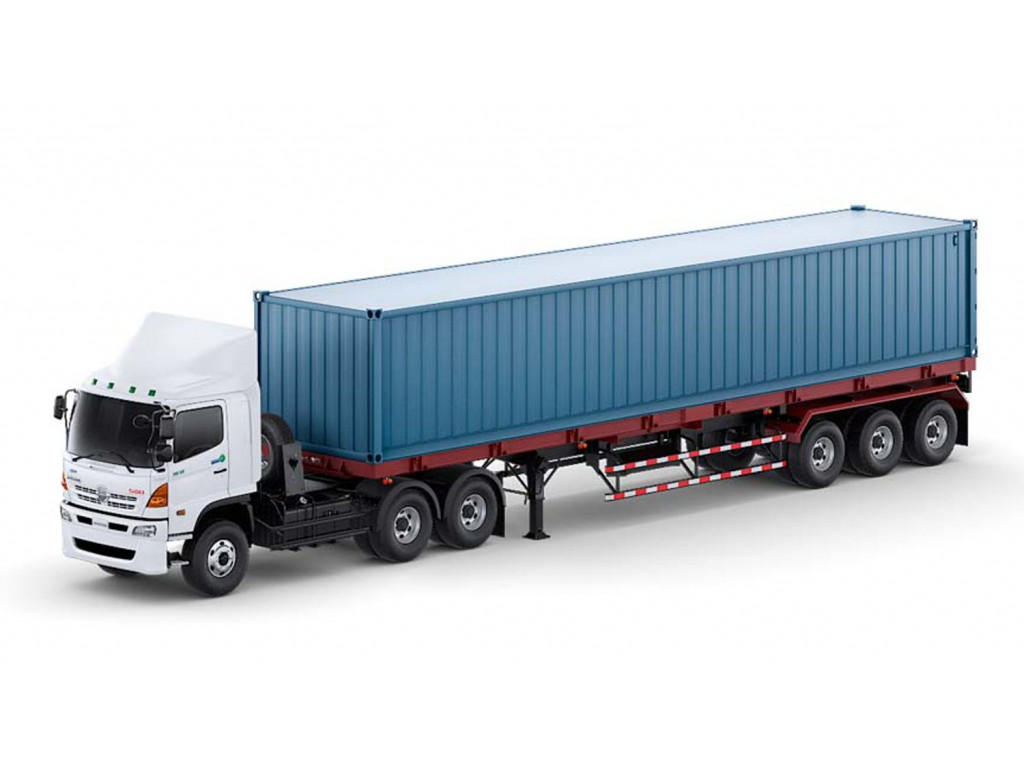truck: (53, 205, 982, 596)
